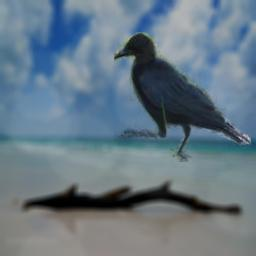Crow: (114, 32, 251, 162)
